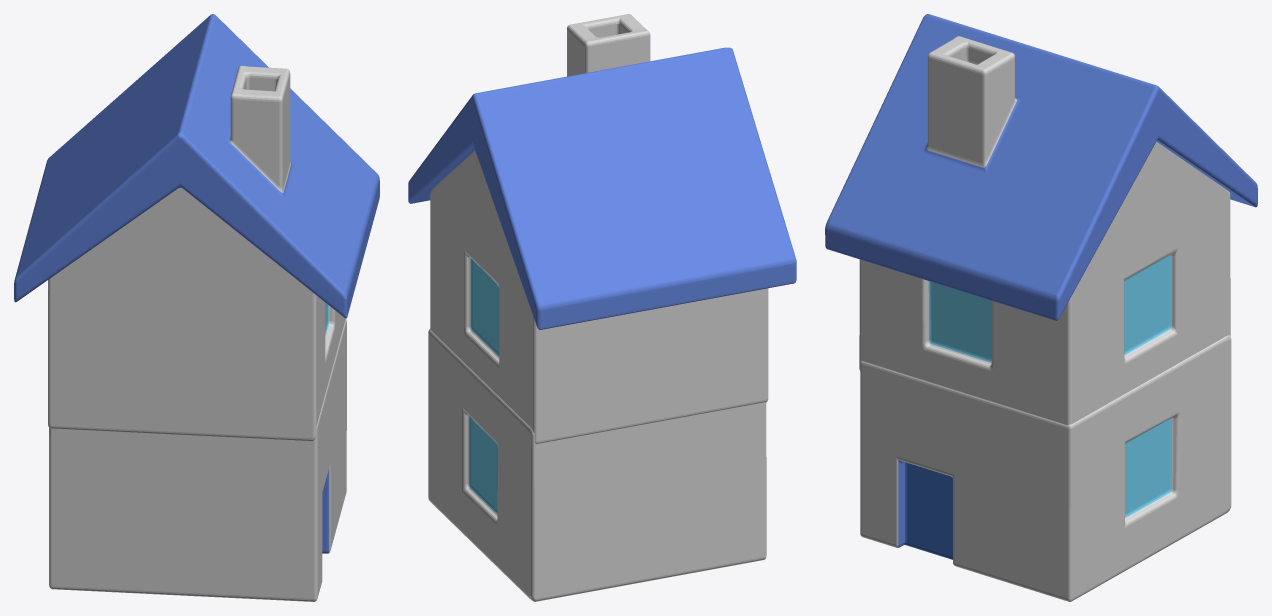
Rendered from House.fbx.
3 views of the same model, side by side, from view 1: azimuth 30°, elevation 25°; view 2: azimuth 150°, elevation 25°; view 3: azimuth 270°, elevation 25° (orthographic). The views are drawn at different scales.
Visible parts, largest first — view 1: House; view 2: House; view 3: House.
Part boxes in pixels (<box>): House: <box>14,14,379,601</box>; House: <box>408,14,796,601</box>; House: <box>825,14,1257,601</box>.
Size of the model in its own units: 281 by 340 by 276.
